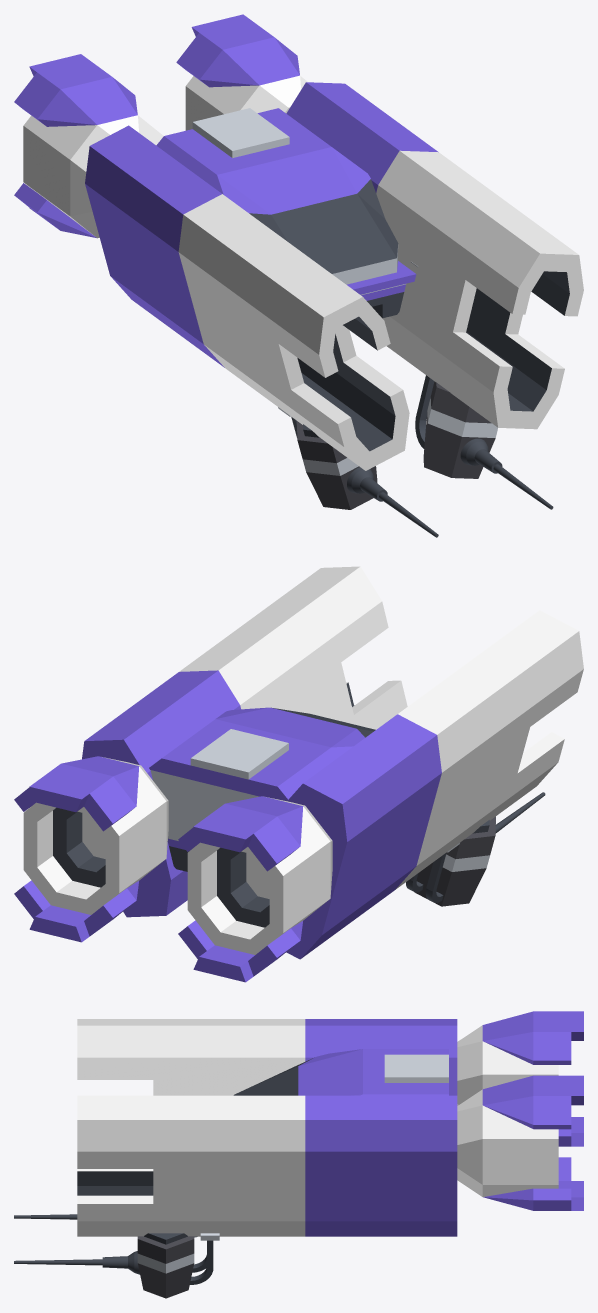
File: chasseur_leger_2.glb
3 renders of one model, top to bottom at view 1: azimuth 30°, elevation 25°; view 2: azimuth 150°, elevation 25°; view 3: azimuth 270°, elevation 25°, orthographic. The views are drawn at different scales.
Visible parts, largest first — view 1: mergedBlocks(Clone); view 2: mergedBlocks(Clone); view 3: mergedBlocks(Clone).
Boxes of the visible parts, x1,y1,x2,y2 form: mergedBlocks(Clone): (14,14,583,537); mergedBlocks(Clone): (14,566,583,982); mergedBlocks(Clone): (14,1011,583,1298).
Bounding box in the file's own units: 1.96 × 1.84 × 4.5.
1 material, 1 textured.
